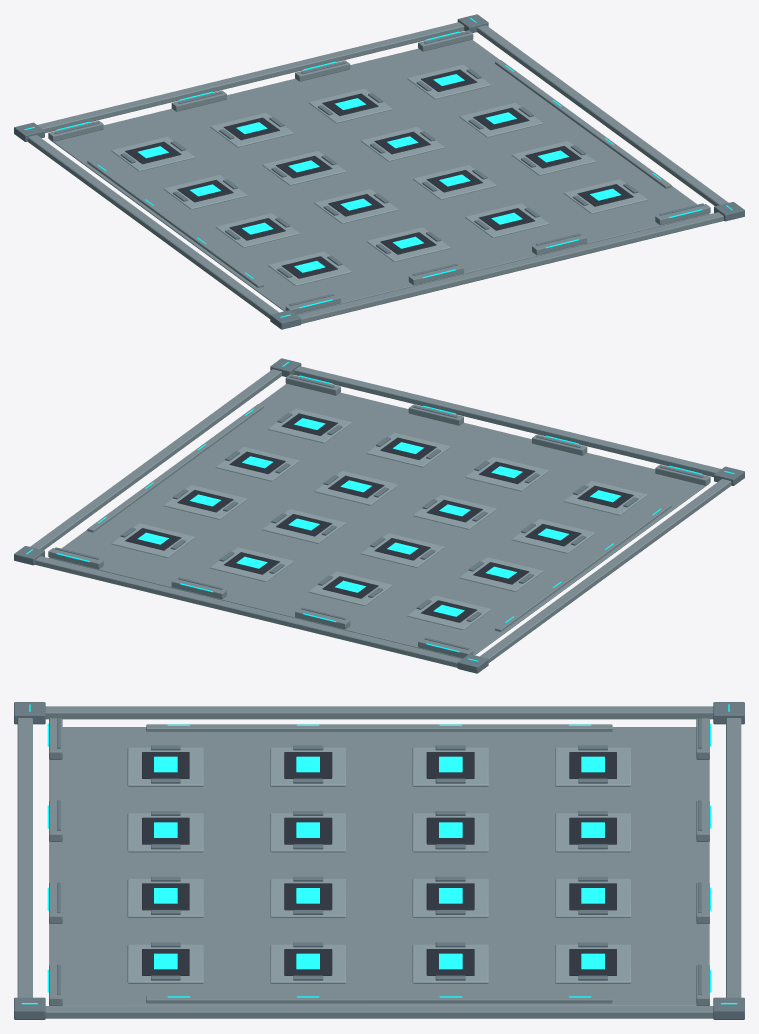
Rendered from sector_1_capacitor_field.glb.
3 renders of one model, top to bottom at view 1: azimuth 30°, elevation 25°; view 2: azimuth 150°, elevation 25°; view 3: azimuth 270°, elevation 25°, orthographic. The views are drawn at different scales.
Parts seen in each view (by area): view 1: CapacitorFieldPrimaryPowerDeck, CapacitorFieldNorthBoundaryMachineWall, CapacitorFieldSouthBoundaryMachineWall, CapacitorFieldWestBoundaryMachineWall, CapacitorFieldEastBoundaryMachineWall, CapacitorFieldSidePowerBus1, CapacitorFieldSidePowerBus0, CapacitorFieldStorageCellBase5, CapacitorFieldStorageCellBase1, CapacitorFieldStorageCellBase11, CapacitorFieldStorageCellBase14, CapacitorFieldStorageCellBase10 (+30 smaller); view 2: CapacitorFieldPrimaryPowerDeck, CapacitorFieldSouthBoundaryMachineWall, CapacitorFieldNorthBoundaryMachineWall, CapacitorFieldWestBoundaryMachineWall, CapacitorFieldEastBoundaryMachineWall, CapacitorFieldSidePowerBus1, CapacitorFieldSidePowerBus0, CapacitorFieldStorageCellBase9, CapacitorFieldStorageCellBase13, CapacitorFieldStorageCellBase2, CapacitorFieldStorageCellBase7, CapacitorFieldStorageCellBase1 (+30 smaller); view 3: CapacitorFieldPrimaryPowerDeck, CapacitorFieldWestBoundaryMachineWall, CapacitorFieldEastBoundaryMachineWall, CapacitorFieldNorthBoundaryMachineWall, CapacitorFieldSouthBoundaryMachineWall, CapacitorFieldSidePowerBus1, CapacitorFieldSidePowerBus0, CapacitorFieldStorageCellBase1, CapacitorFieldStorageCellBase13, CapacitorFieldStorageCellBase5, CapacitorFieldStorageCellBase9, CapacitorFieldStorageCellBase0 (+31 smaller).
Boxes of the visible parts, left/top/right/bottom form: CapacitorFieldPrimaryPowerDeck: left=49, top=39, right=709, bottom=314; CapacitorFieldNorthBoundaryMachineWall: left=297, top=212, right=723, bottom=323; CapacitorFieldSouthBoundaryMachineWall: left=37, top=22, right=464, bottom=132; CapacitorFieldWestBoundaryMachineWall: left=27, top=135, right=278, bottom=318; CapacitorFieldEastBoundaryMachineWall: left=477, top=25, right=728, bottom=205; CapacitorFieldSidePowerBus1: left=495, top=60, right=671, bottom=188; CapacitorFieldSidePowerBus0: left=87, top=159, right=263, bottom=287; CapacitorFieldStorageCellBase5: left=314, top=189, right=398, bottom=223; CapacitorFieldStorageCellBase1: left=366, top=227, right=450, bottom=261; CapacitorFieldStorageCellBase11: left=459, top=102, right=543, bottom=137; CapacitorFieldStorageCellBase14: left=308, top=88, right=392, bottom=123; CapacitorFieldStorageCellBase10: left=361, top=126, right=444, bottom=161; CapacitorFieldPrimaryPowerDeck: left=49, top=383, right=709, bottom=658; CapacitorFieldSouthBoundaryMachineWall: left=35, top=556, right=461, bottom=667; CapacitorFieldNorthBoundaryMachineWall: left=294, top=366, right=721, bottom=477; CapacitorFieldWestBoundaryMachineWall: left=480, top=479, right=731, bottom=662; CapacitorFieldEastBoundaryMachineWall: left=30, top=369, right=281, bottom=549; CapacitorFieldSidePowerBus1: left=87, top=404, right=263, bottom=532; CapacitorFieldSidePowerBus0: left=495, top=503, right=671, bottom=631; CapacitorFieldStorageCellBase9: left=360, top=533, right=444, bottom=567; CapacitorFieldStorageCellBase13: left=308, top=571, right=392, bottom=605; CapacitorFieldStorageCellBase2: left=366, top=432, right=450, bottom=467; CapacitorFieldStorageCellBase7: left=215, top=446, right=299, bottom=481; CapacitorFieldStorageCellBase1: left=465, top=456, right=548, bottom=491; CapacitorFieldPrimaryPowerDeck: left=49, top=727, right=709, bottom=1005; CapacitorFieldWestBoundaryMachineWall: left=45, top=706, right=713, bottom=719; CapacitorFieldEastBoundaryMachineWall: left=45, top=1006, right=713, bottom=1018; CapacitorFieldNorthBoundaryMachineWall: left=17, top=718, right=32, bottom=997; CapacitorFieldSouthBoundaryMachineWall: left=726, top=718, right=741, bottom=997; CapacitorFieldSidePowerBus1: left=146, top=995, right=612, bottom=1003; CapacitorFieldSidePowerBus0: left=146, top=724, right=612, bottom=731; CapacitorFieldStorageCellBase1: left=127, top=813, right=203, bottom=852; CapacitorFieldStorageCellBase13: left=555, top=813, right=631, bottom=852; CapacitorFieldStorageCellBase5: left=270, top=813, right=346, bottom=852; CapacitorFieldStorageCellBase9: left=412, top=813, right=488, bottom=852; CapacitorFieldStorageCellBase0: left=127, top=747, right=203, bottom=786.
Size of the model in its own units: 56.45 by 1.08 by 56.45.
